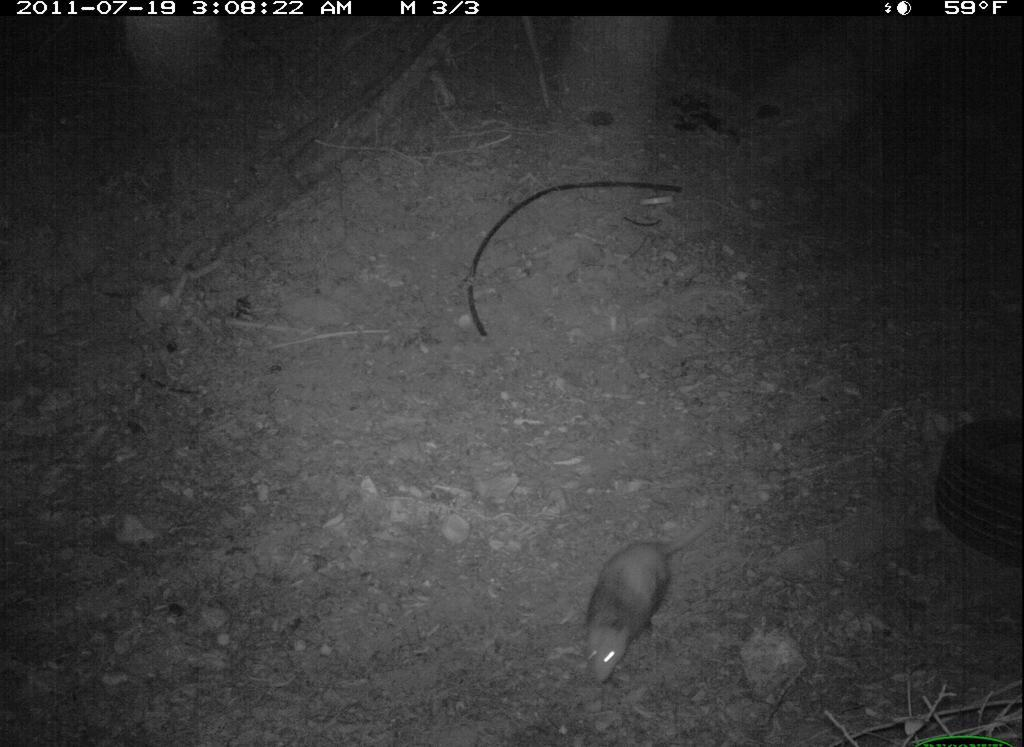opossum: (580, 510, 735, 693)
